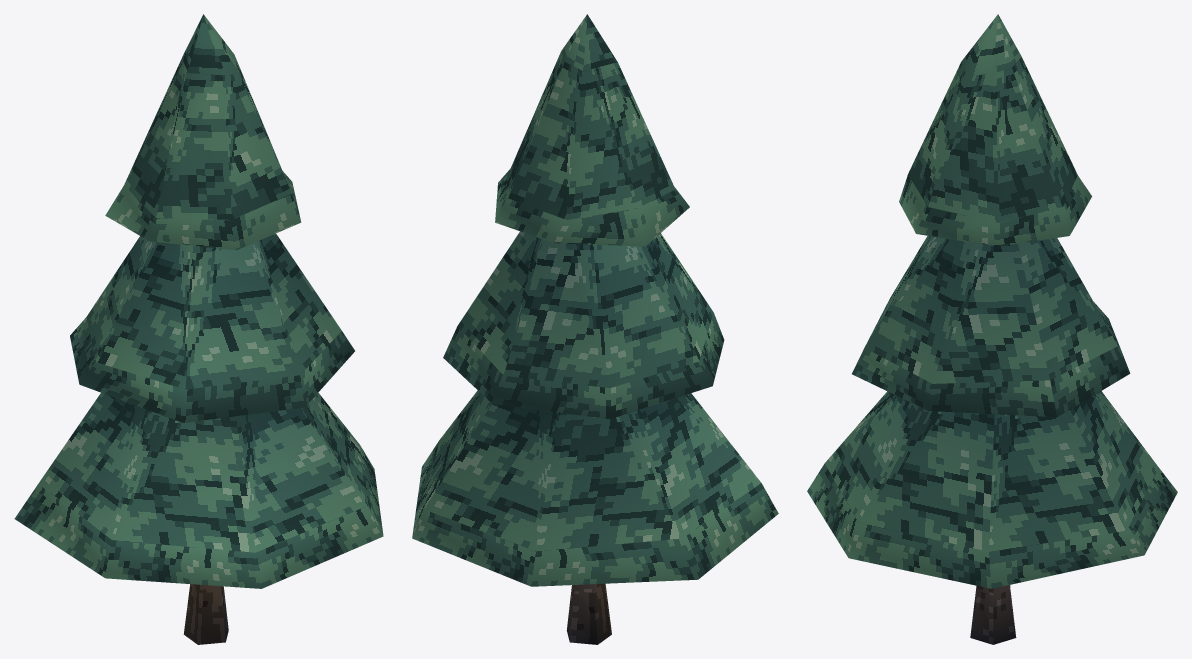
Rendered from mnat.pine__short.glb.
3 views of the same model, side by side, from view 1: azimuth 30°, elevation 25°; view 2: azimuth 150°, elevation 25°; view 3: azimuth 270°, elevation 25° (orthographic).
Parts seen in each view (by area): view 1: kit_tiers, kit_trunk; view 2: kit_tiers, kit_trunk; view 3: kit_tiers, kit_trunk.
Part boxes in pixels (x1,y1,x2,y2): kit_tiers: (14, 14, 383, 588); kit_trunk: (183, 584, 228, 644); kit_tiers: (412, 14, 778, 586); kit_trunk: (566, 583, 611, 644); kit_tiers: (807, 14, 1177, 588); kit_trunk: (970, 585, 1016, 644).
Bounding box in the file's own units: 2.7 × 5.04 × 2.73.
Materials: 2 (2 with a texture image).
